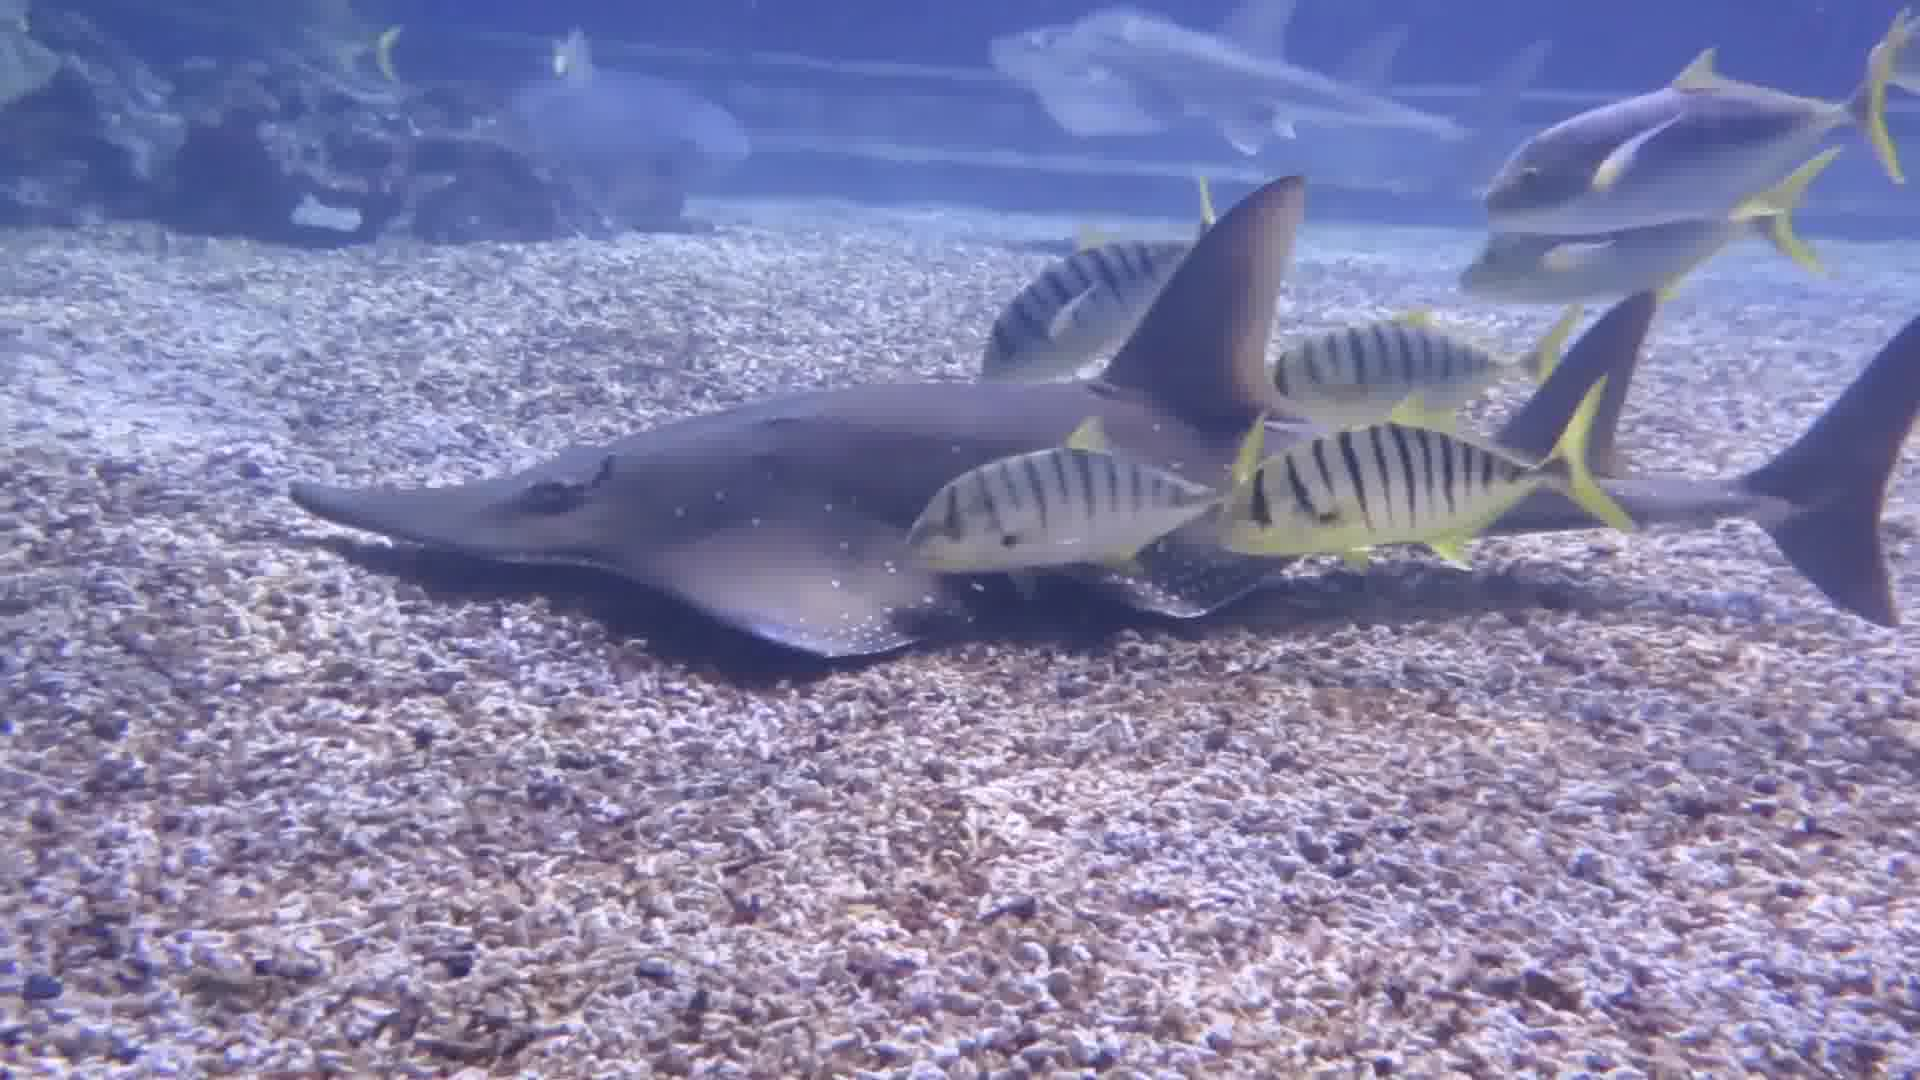Rhychobatus djiddensis: (272, 200, 1920, 680)
